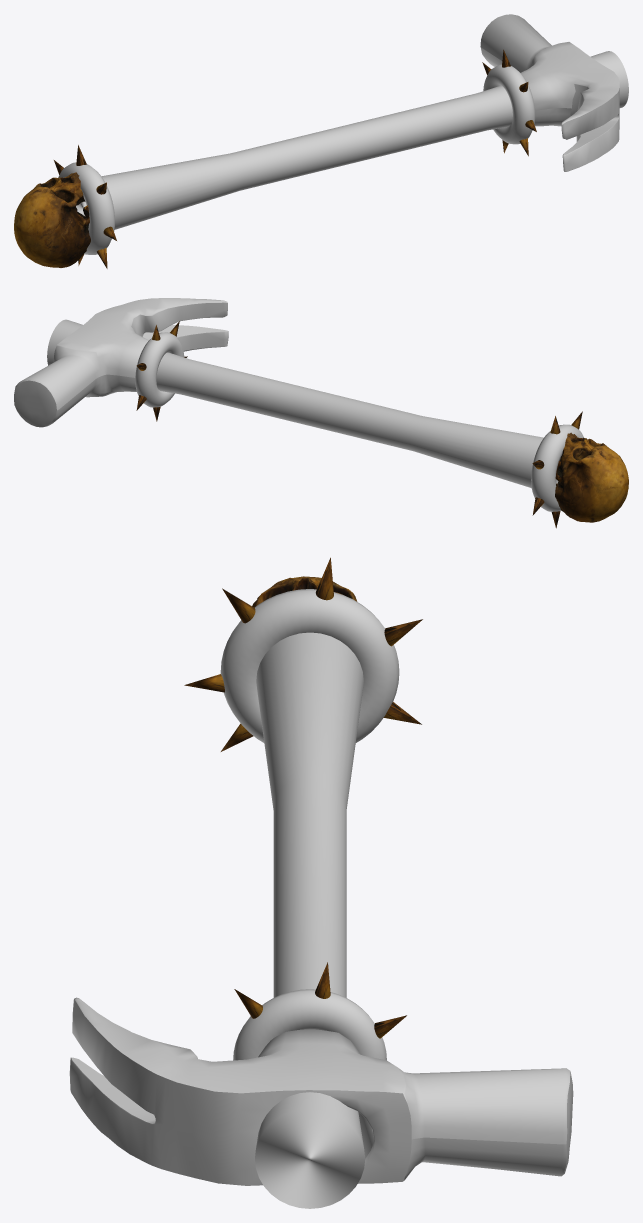
File: hammer.fbx
The picture shows the model from 3 angles, top to bottom: view 1: azimuth 30°, elevation 25°; view 2: azimuth 150°, elevation 25°; view 3: azimuth 270°, elevation 25°; orthographic projection. The views are drawn at different scales.
Parts seen in each view (by area): view 1: Cylinder, head, skull1, Torus.001, Torus.002, Cone, Cone.001; view 2: Cylinder, head, skull1, Torus.001, Torus.002, Cone, Cone.001; view 3: head, Cylinder, Torus.001, Torus.002, Cone, Cone.001, skull1.
Part boxes in pixels (x1,y1,x2,y2): Cylinder: (76,51,628,229); head: (480,14,619,171); skull1: (14,172,90,267); Torus.001: (58,162,114,254); Torus.002: (483,64,535,144); Cone: (54,145,116,268); Cone.001: (482,49,536,156); Cylinder: (47,319,558,487); head: (14,298,228,427); skull1: (555,432,628,522); Torus.001: (531,424,583,511); Torus.002: (135,332,184,407); Cone: (532,411,582,528); Cone.001: (136,321,187,421); head: (69,997,573,1185); Cylinder: (255,632,365,1208); Torus.001: (220,589,399,742); Torus.002: (233,989,386,1060); Cone: (184,557,422,751); Cone.001: (234,962,406,1038); skull1: (252,576,357,607).
Size of the model in its own units: 316 by 61.19 by 122.
